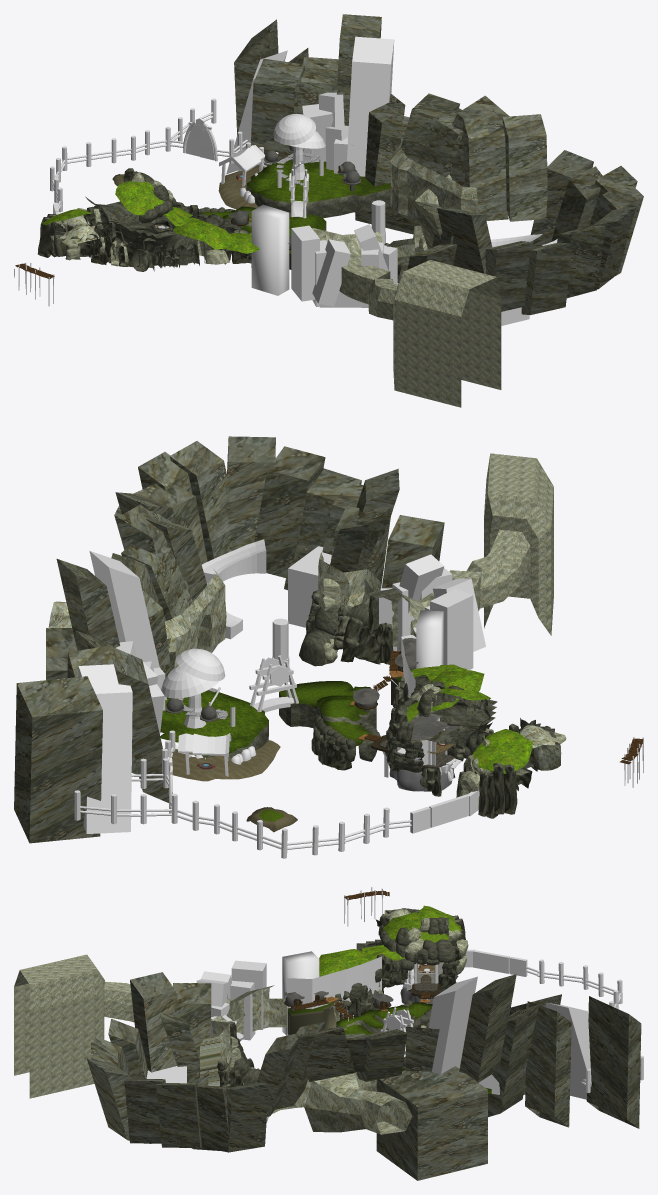
File: coast.glb
3 views of the same model, one above another, from view 1: azimuth 30°, elevation 25°; view 2: azimuth 150°, elevation 25°; view 3: azimuth 270°, elevation 25° (orthographic). The views are drawn at different scales.
Parts seen in each view (by area): view 1: backrcks, Plane.022, coast-terrain2, Plane.004, Cube.321, coast-hills-ignore, Cube.292, Plane.021, Cube.291, Cube.294, Plane.006, coast-treetop (+15 smaller); view 2: backrcks, Plane.022, Cube.306, Plane.004, coast-terrain1, coast-hills-ignore, Cube.321, coast-terrain2, coast-rock05.009, Cube.291, coast-rock05.011, coast-treetop (+23 smaller); view 3: backrcks, Plane.022, Plane.004, Cube.321, coast-hills-ignore, coast-terrain1, coast-inviswall, Cube.306, Cube.292, coast-rock02.006, coast-bckgroundrocks2, Cube.291 (+10 smaller).
Part boxes in pixels (x1,y1,x2,y2): backrcks: (234, 14, 643, 315); Plane.022: (368, 260, 501, 407); coast-terrain2: (246, 160, 390, 218); Plane.004: (312, 144, 477, 283); Cube.321: (347, 36, 394, 176); coast-hills-ignore: (42, 181, 260, 253); Cube.292: (251, 204, 289, 295); Plane.021: (324, 231, 390, 304); Cube.291: (291, 225, 319, 301); Cube.294: (312, 239, 350, 306); Plane.006: (102, 214, 197, 252); coast-treetop: (273, 113, 325, 148); backrcks: (14, 436, 444, 843); Plane.022: (466, 453, 553, 635); Cube.306: (78, 664, 132, 833); Plane.004: (48, 552, 419, 670); coast-terrain1: (279, 671, 402, 746); coast-hills-ignore: (406, 664, 532, 773); Cube.321: (89, 550, 166, 700); coast-terrain2: (160, 690, 268, 758); coast-rock05.009: (306, 590, 393, 664); Cube.291: (430, 589, 473, 670); coast-rock05.011: (385, 739, 517, 818); coast-treetop: (161, 648, 225, 698); backrcks: (87, 972, 641, 1180); Plane.022: (14, 954, 134, 1098); Plane.004: (200, 985, 412, 1134); Cube.321: (428, 976, 477, 1074); coast-hills-ignore: (319, 905, 461, 976); coast-terrain1: (287, 1000, 432, 1035); coast-inviswall: (287, 956, 381, 1035); Cube.306: (545, 1002, 591, 1099); Cube.292: (282, 951, 319, 1035); coast-rock02.006: (349, 939, 455, 1002); coast-bckgroundrocks2: (379, 917, 448, 957); Cube.291: (231, 960, 266, 1029).
Size of the model in its own units: 464 by 151 by 506.
23 materials, 23 textured.
